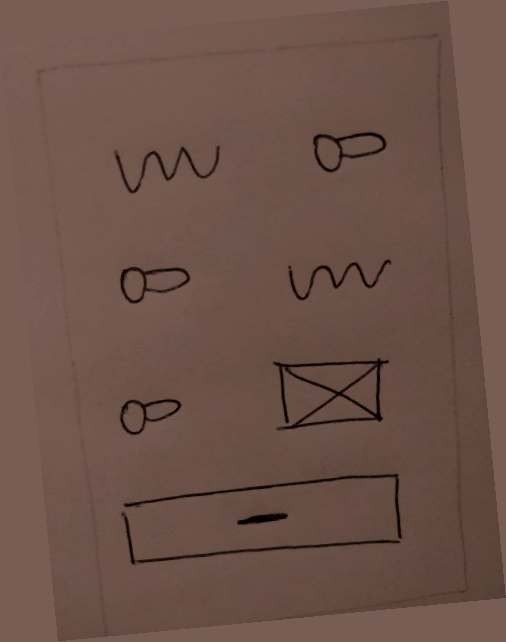button: (110, 458, 412, 580)
image: (258, 343, 402, 448)
switch: (303, 115, 398, 186), (109, 252, 203, 322), (110, 387, 190, 450)
text: (106, 129, 232, 206), (280, 241, 406, 318)
